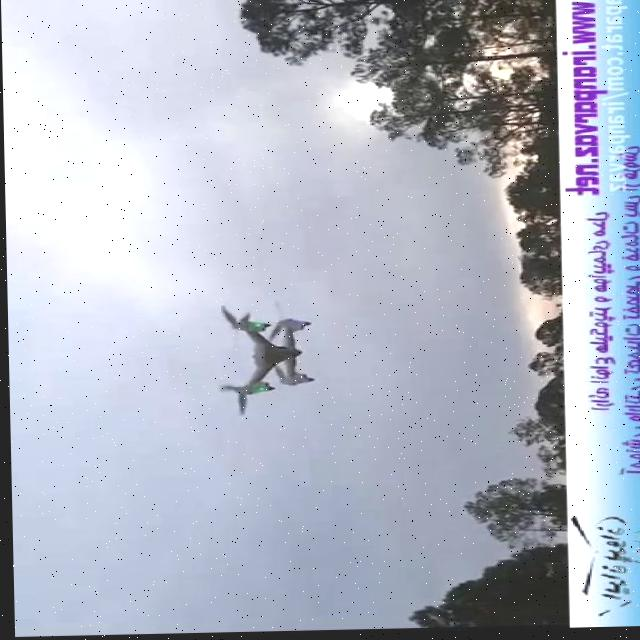drone: (206, 295, 315, 420)
